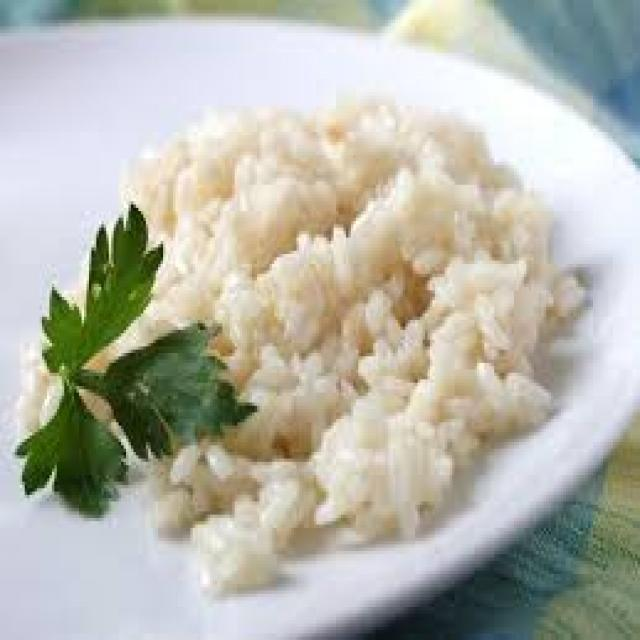White Rice: (66, 98, 536, 486)
